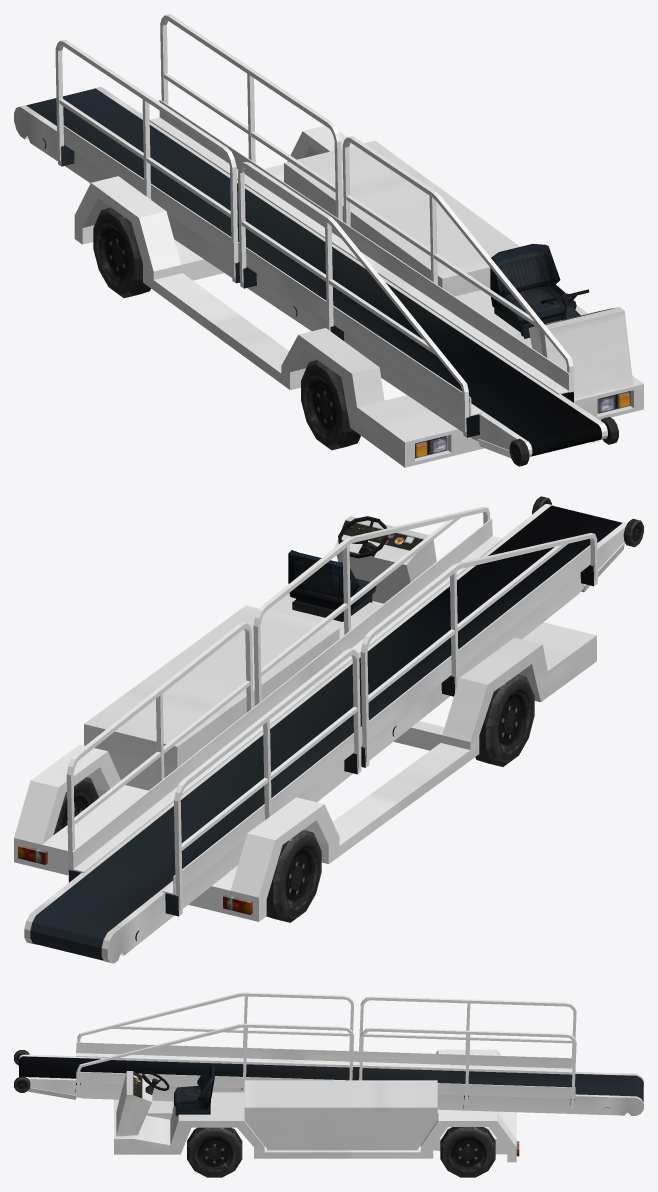
The model's file is belt_loader.obj.
The picture shows the model from 3 angles, top to bottom: view 1: azimuth 30°, elevation 25°; view 2: azimuth 150°, elevation 25°; view 3: azimuth 270°, elevation 25°; orthographic projection. The views are drawn at different scales.
Visible parts, largest first — view 1: Cube.002; view 2: Cube.002; view 3: Cube.002.
Boxes of the visible parts, x1=… form: Cube.002: x1=14, y1=14, x2=643, y2=467; Cube.002: x1=14, y1=496, x2=643, y2=963; Cube.002: x1=14, y1=992, x2=643, y2=1177.
Bounding box in the file's own units: 2.09 × 1.67 × 7.69.
1 material, 1 textured.
